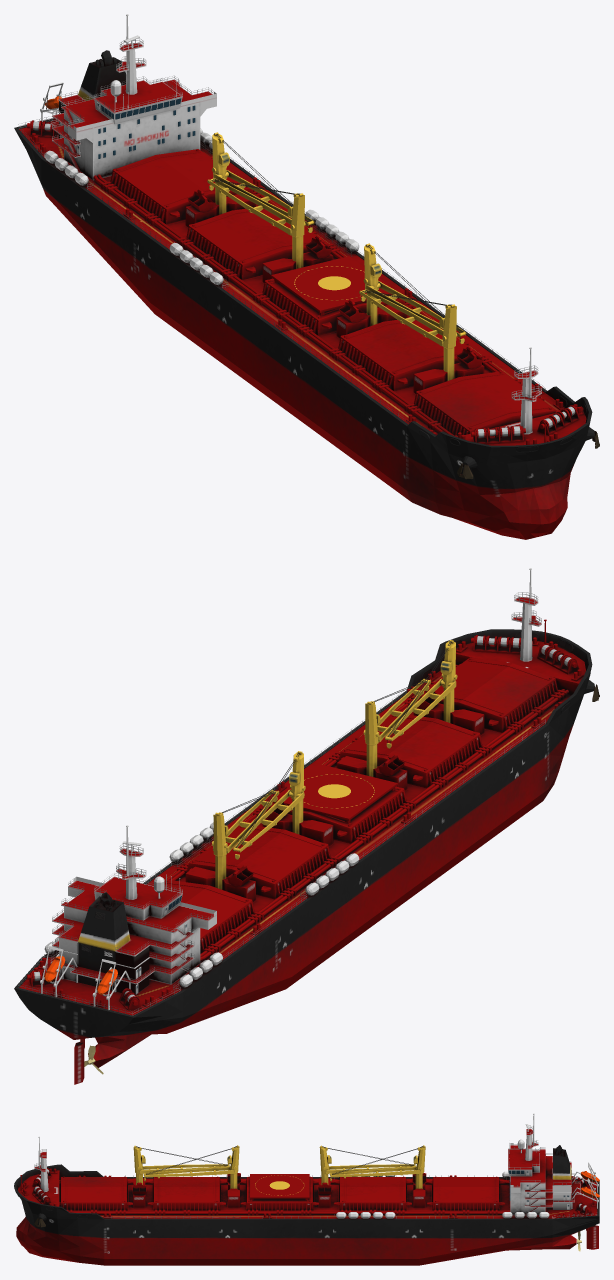
The model's file is bulk_cargo_ship.obj.
3 renders of one model, top to bottom at view 1: azimuth 30°, elevation 25°; view 2: azimuth 150°, elevation 25°; view 3: azimuth 270°, elevation 25°, orthographic. The views are drawn at different scales.
Visible parts, largest first — view 1: bulk_cargo_ship; view 2: bulk_cargo_ship; view 3: bulk_cargo_ship.
Boxes of the visible parts, x1,y1,x2,y2 form: bulk_cargo_ship: (14, 14, 599, 539); bulk_cargo_ship: (14, 568, 599, 1084); bulk_cargo_ship: (14, 1113, 599, 1265).
Bounding box in the file's own units: 45.19 × 65.83 × 257.
1 material, 1 textured.
